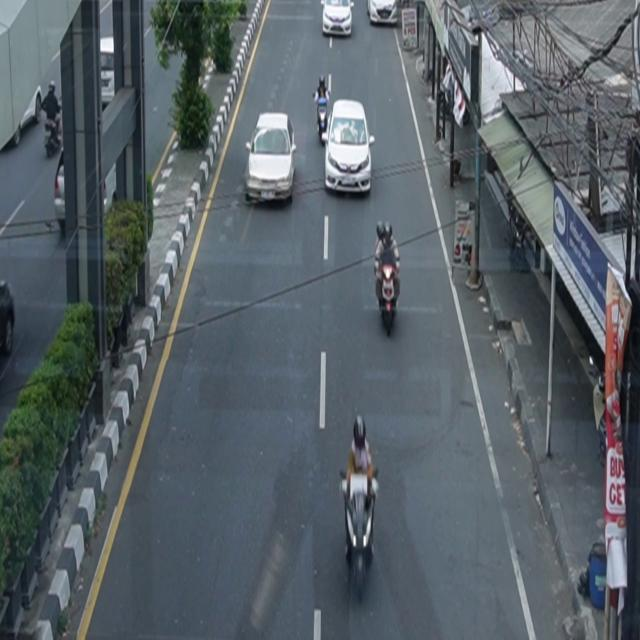car: (322, 99, 376, 195), (245, 113, 297, 205), (321, 1, 355, 37), (1, 280, 16, 357), (367, 1, 398, 26)
